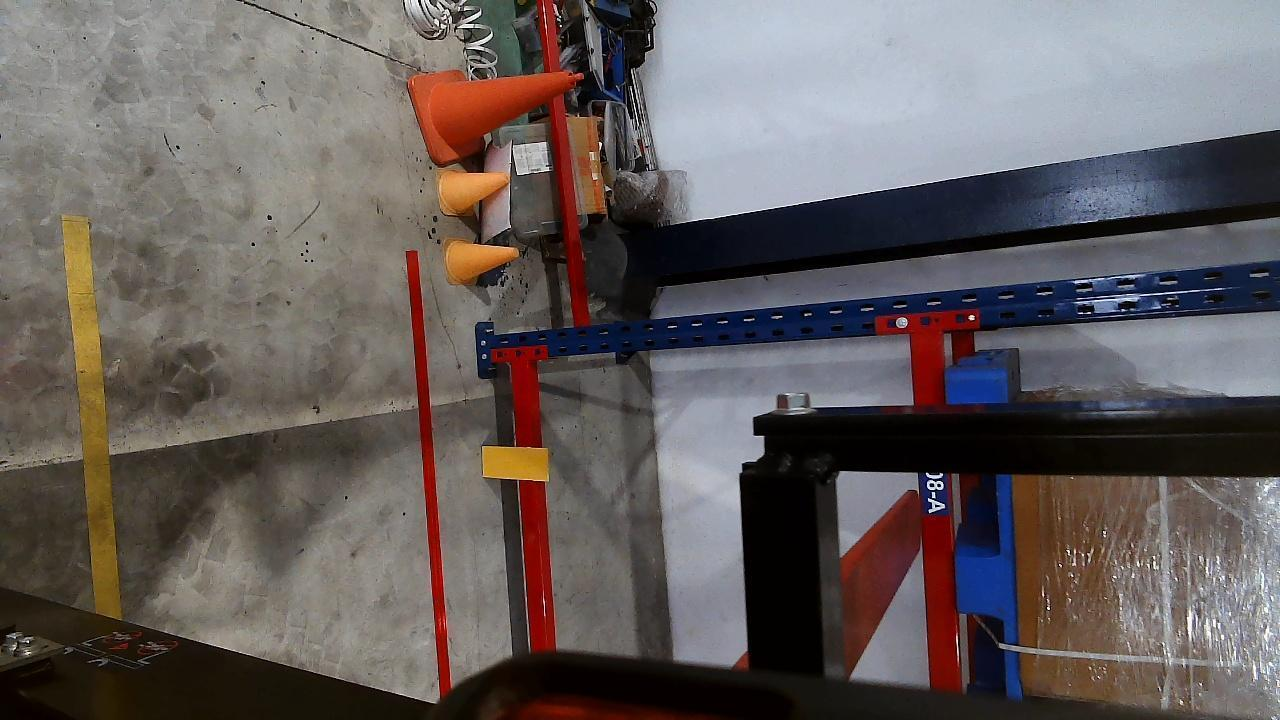red_line: (409, 250, 452, 692)
yellow_line: (58, 214, 120, 617)
